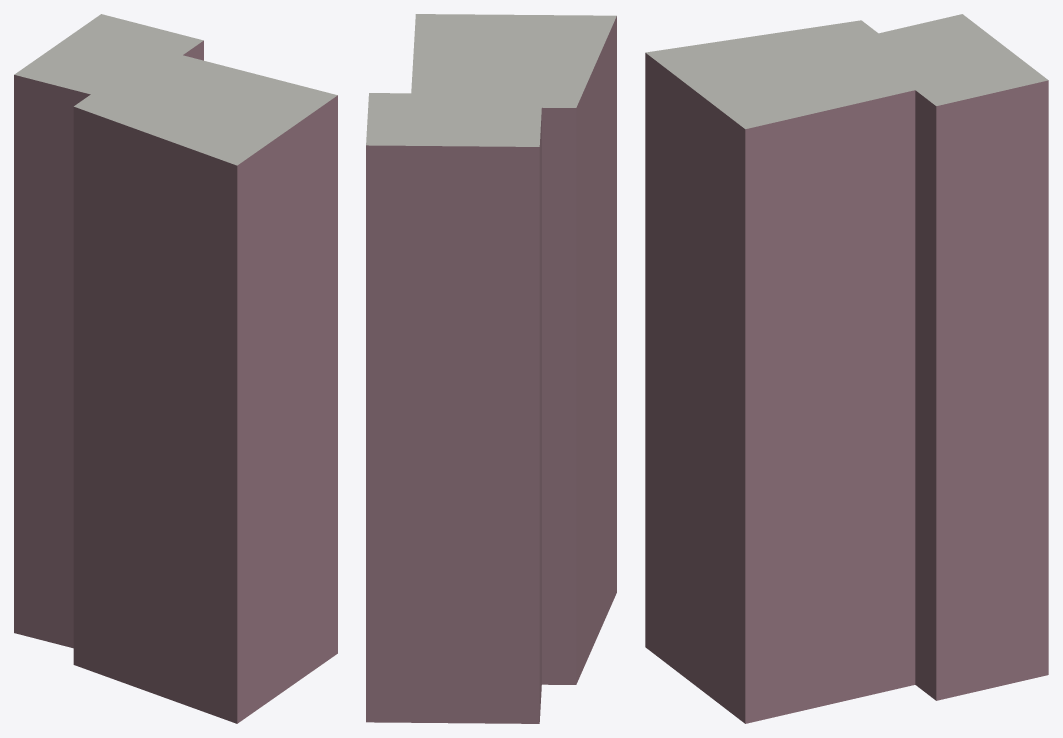
Rendered from nyc-1022610-0.glb.
3 views of the same model, side by side, from view 1: azimuth 30°, elevation 25°; view 2: azimuth 150°, elevation 25°; view 3: azimuth 270°, elevation 25° (orthographic). The views are drawn at different scales.
Parts seen in each view (by area): view 1: nyc-1022610-0; view 2: nyc-1022610-0; view 3: nyc-1022610-0.
Part boxes in pixels (x1,y1,x2,y2): nyc-1022610-0: [14, 14, 337, 723]; nyc-1022610-0: [366, 14, 616, 723]; nyc-1022610-0: [645, 14, 1048, 723].
Bounding box in the file's own units: 52.23 × 126 × 77.23.
